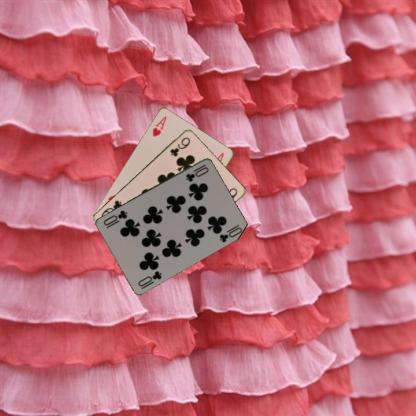10c: (183, 161, 210, 183), (136, 268, 163, 290)
9c: (168, 134, 191, 158)
Ah: (150, 113, 167, 138)
